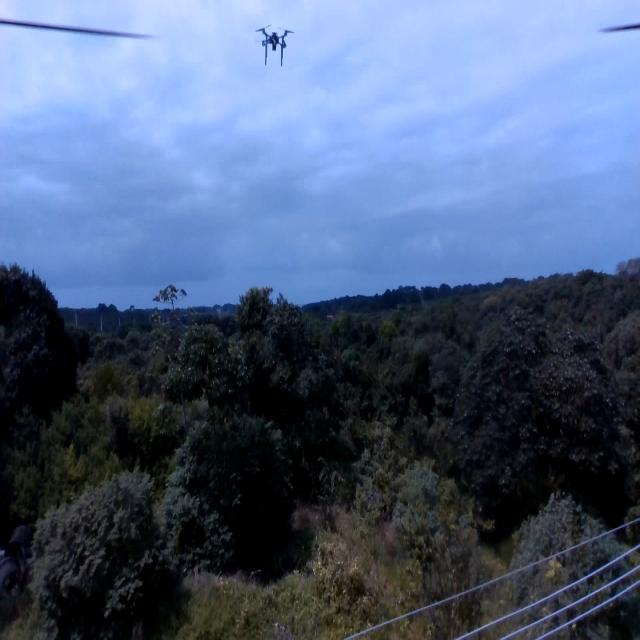-uav-: (256, 18, 296, 72)
